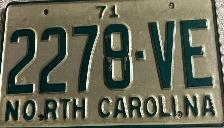2: (5, 26, 40, 96), (37, 25, 71, 96)
7: (70, 23, 101, 95)
8: (101, 22, 133, 93)
E: (178, 18, 217, 91)
V: (146, 19, 180, 91)
